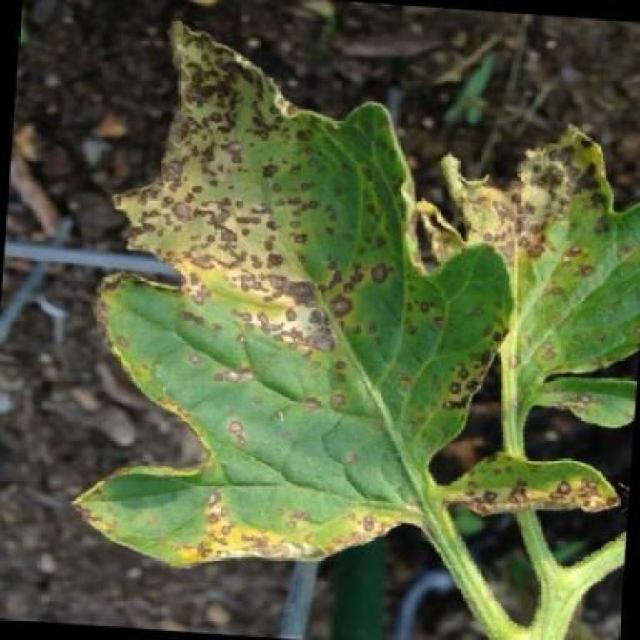Septoria leaf spot: (68, 25, 517, 608), (442, 106, 640, 440)
